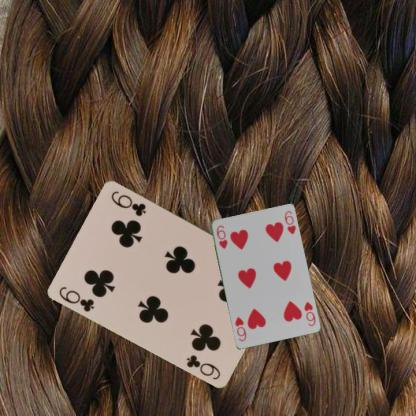6c: (57, 284, 96, 313)
6h: (301, 299, 317, 327), (214, 223, 229, 250)
